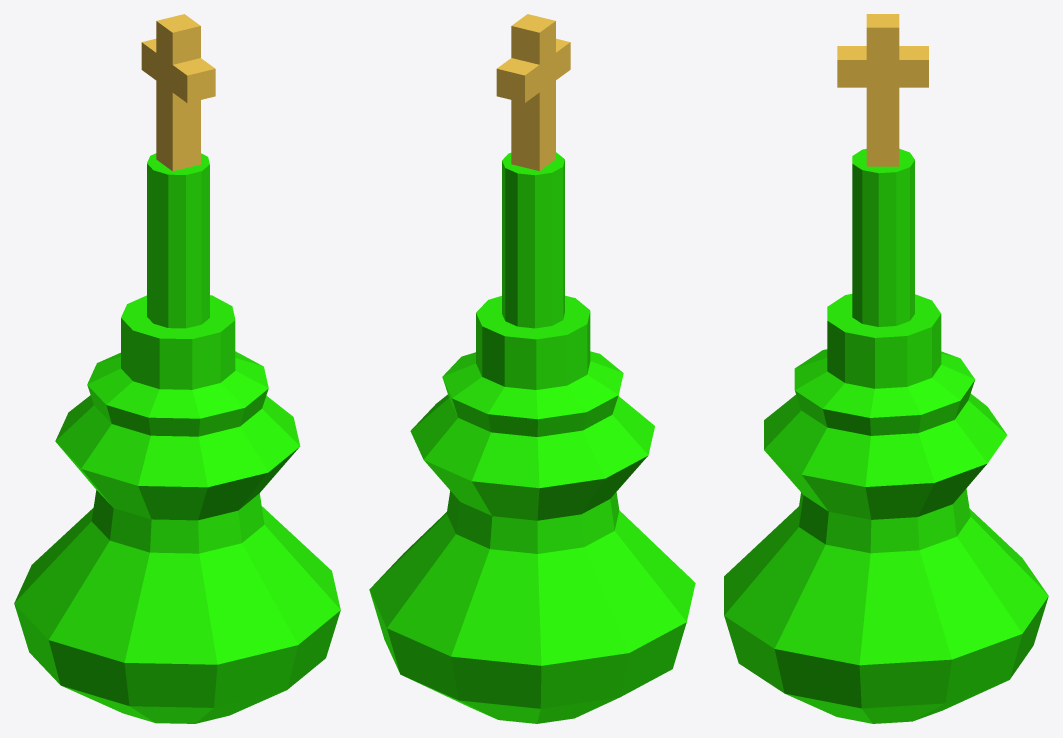
Rendered from potion4.fbx.
3 views of the same model, side by side, from view 1: azimuth 30°, elevation 25°; view 2: azimuth 150°, elevation 25°; view 3: azimuth 270°, elevation 25° (orthographic).
Parts seen in each view (by area): view 1: Potion4; view 2: Potion4; view 3: Potion4.
Boxes of the visible parts, bbox=[...] form: Potion4: bbox=[14, 14, 340, 723]; Potion4: bbox=[369, 14, 695, 723]; Potion4: bbox=[724, 14, 1048, 723].
Bounding box in the file's own units: 12.33 × 27.93 × 12.2.
